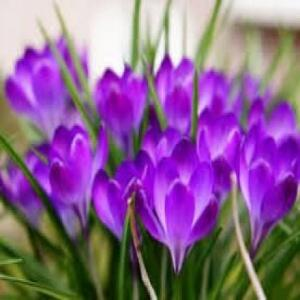Saffron: (139, 155, 220, 272), (239, 124, 300, 254), (46, 121, 106, 233)
